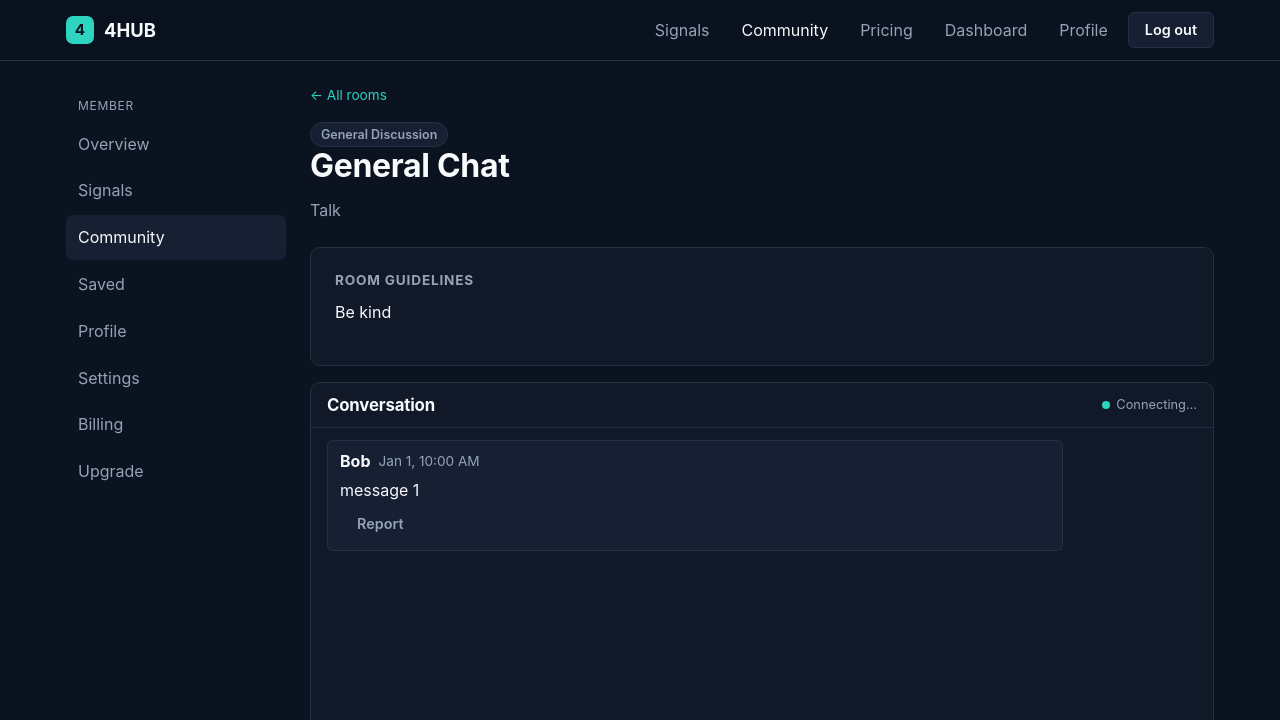
Scenario: reporting a message › treats "already reported" as success
The width and height of the screenshot is (1280, 720).
Click the button with aria-label "Report message from Bob".
click(380, 524)  # box [340,506,420,542]
(page scrolled)
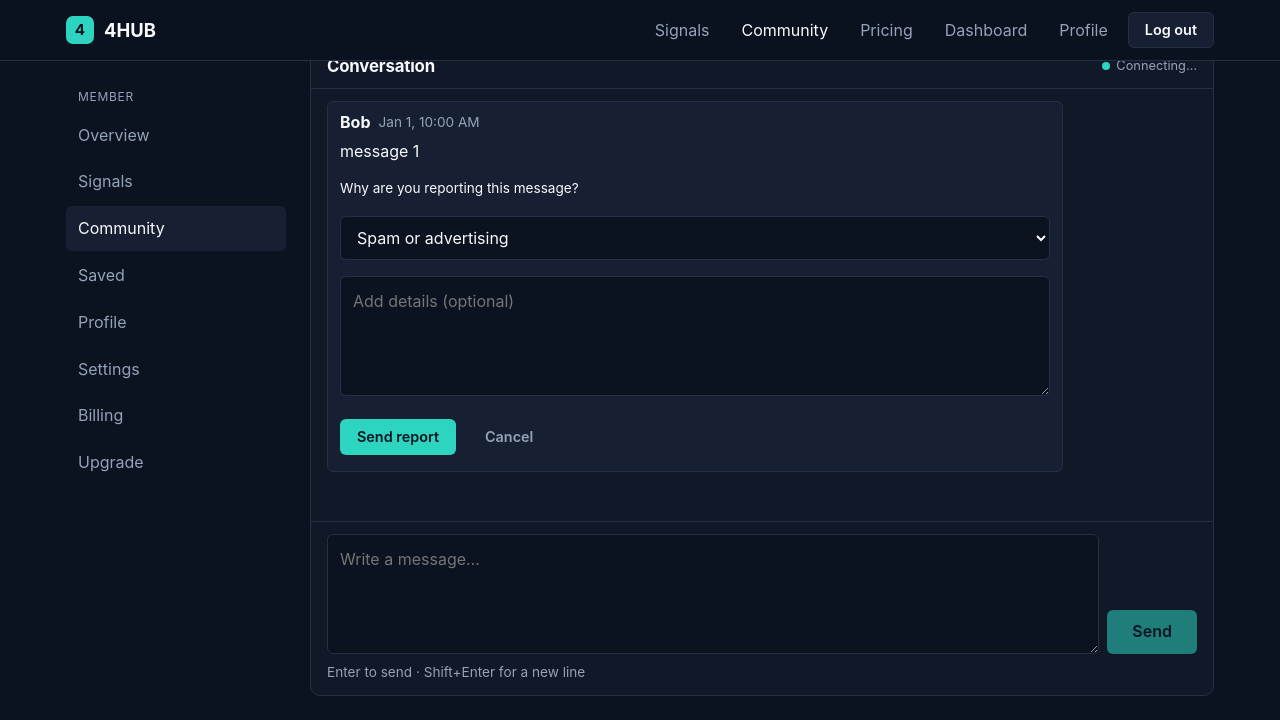
Click the button "Send report".
click(398, 437)  # box [340,419,456,455]
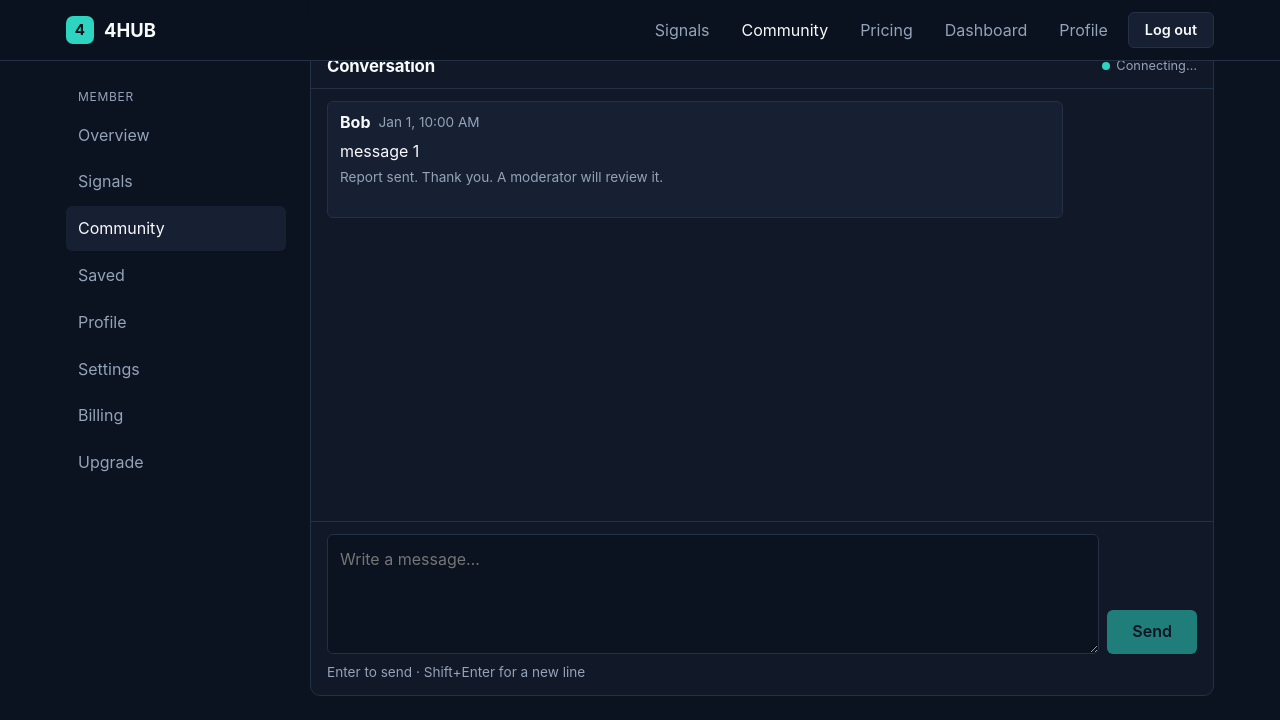
expect the text "Report sent. Thank you. A moderator will review it." is shown: met, box [340,170,663,186]
